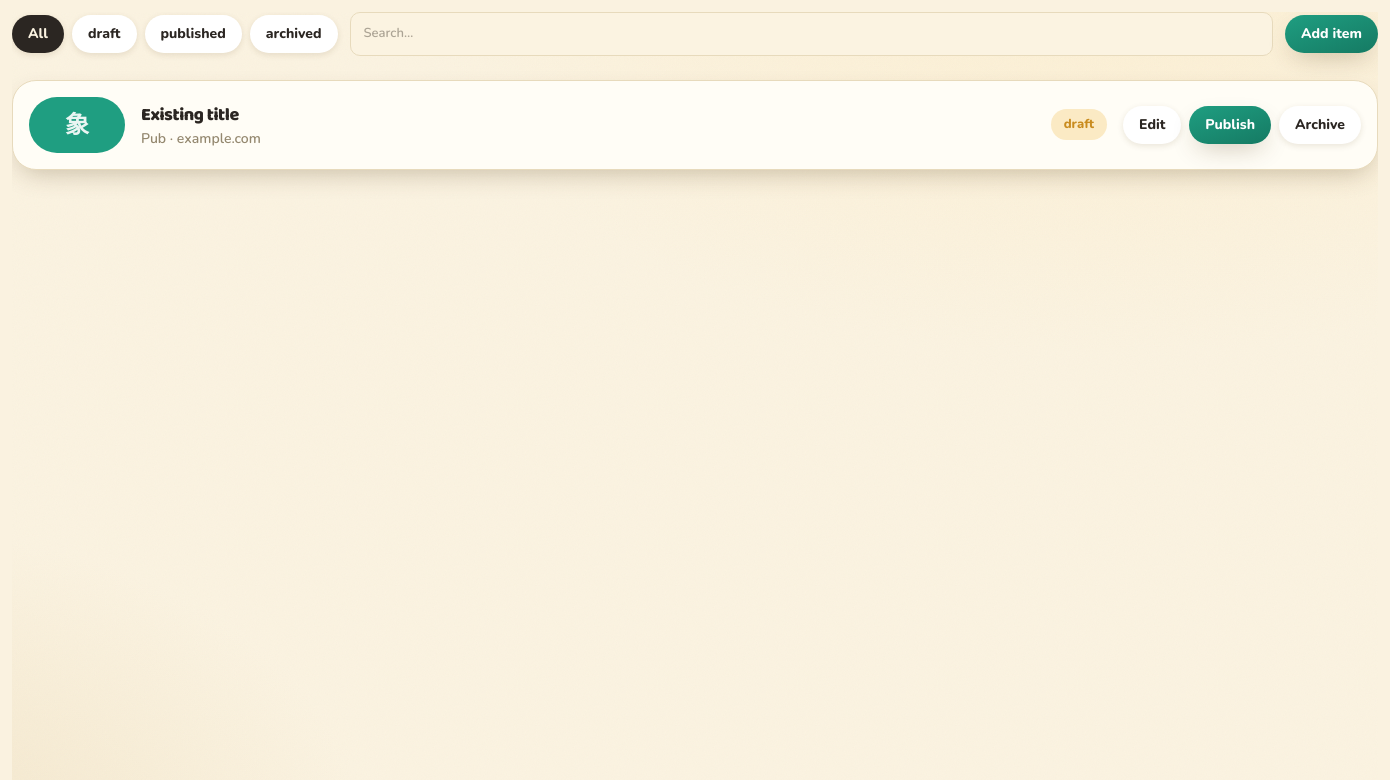
Test: AdminNewsScreen › disables row actions while a patch is in flight
Click the button "Publish" at (1230,124), box [1189,106,1271,144]
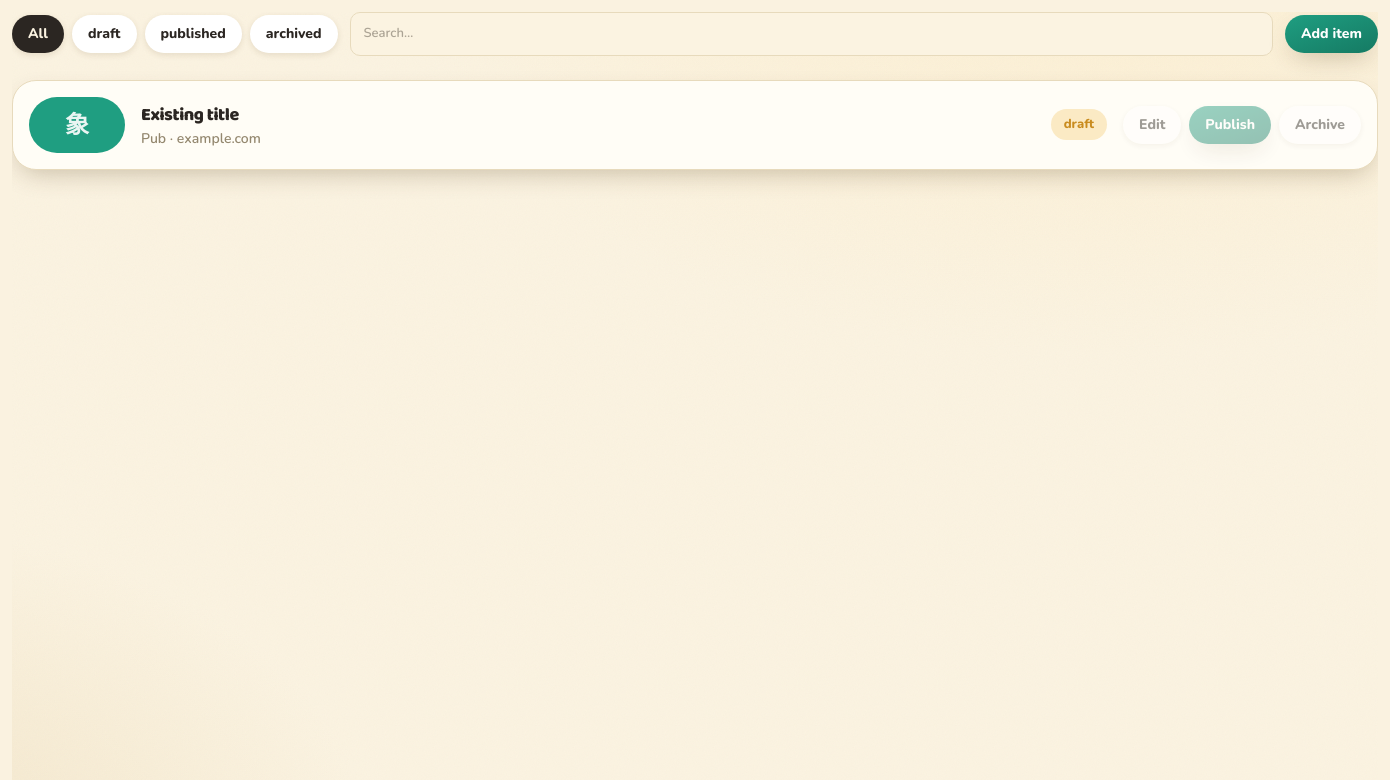
Result: the button "Publish" is disabled
Click the button "Publish" at (1230,124), box [1189,106,1271,144]
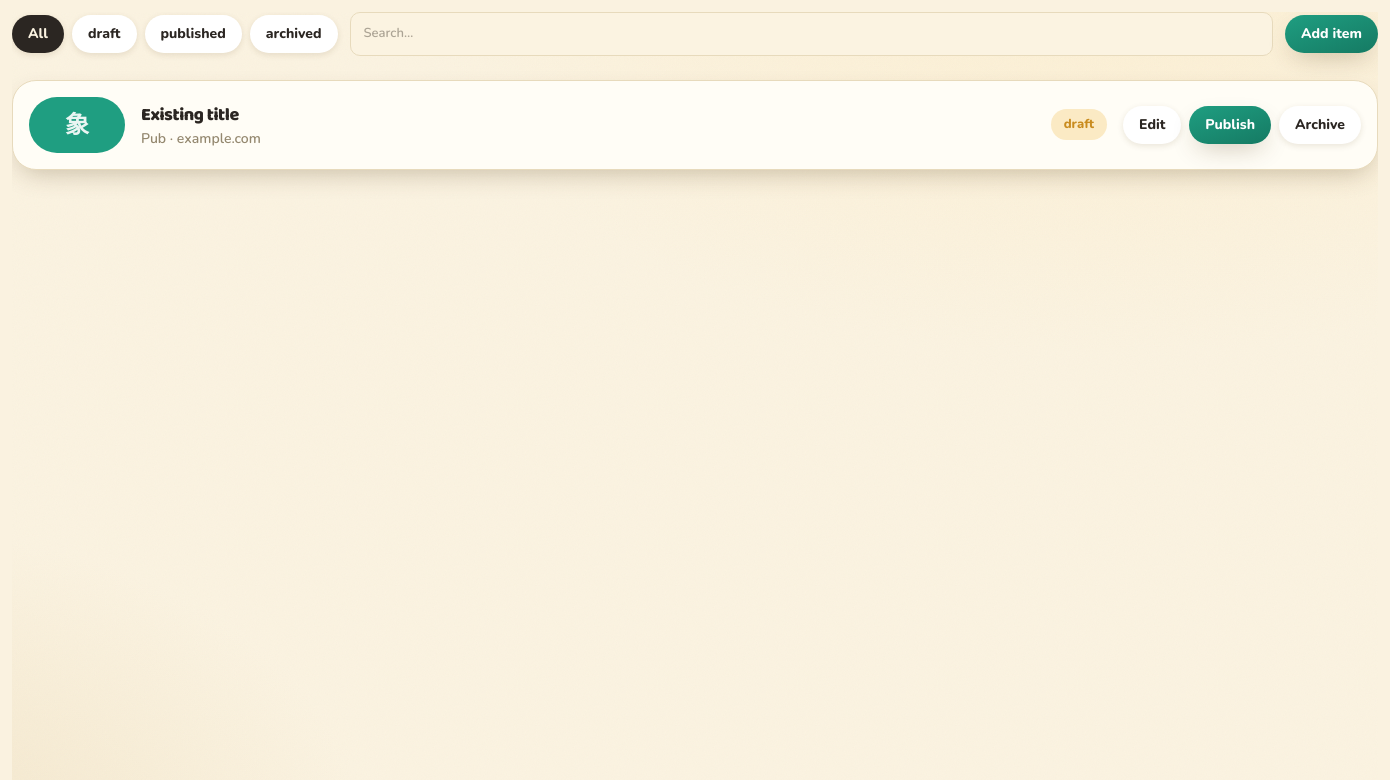
Result: the button "Publish" is enabled at [1189,106,1271,144]
